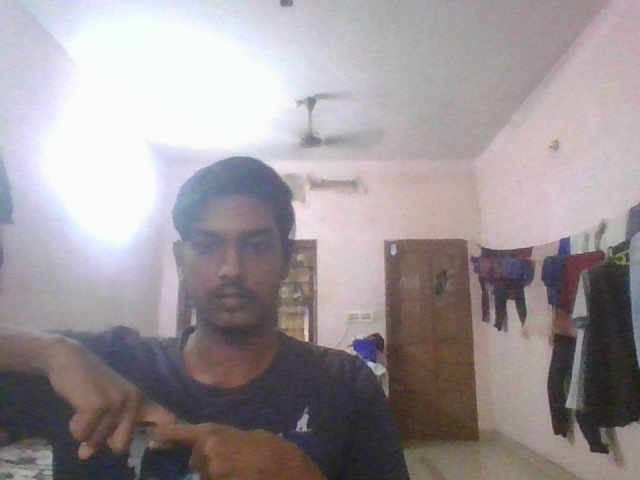friend: (1, 323, 326, 480)
